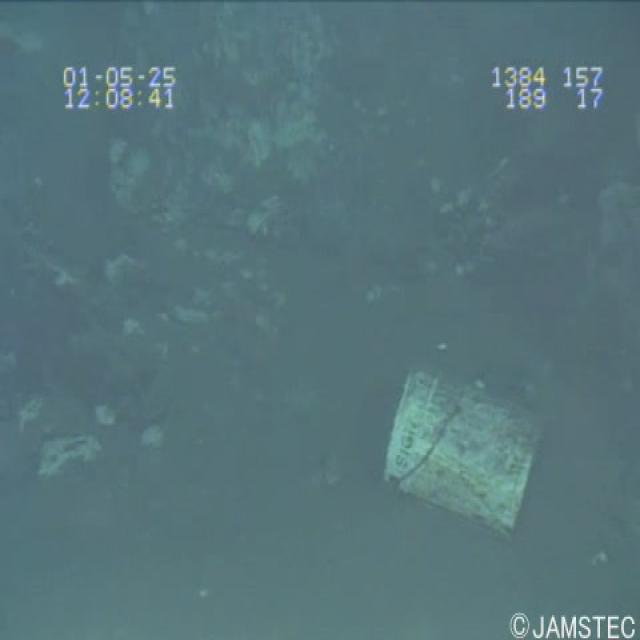plastic: (372, 353, 556, 554)
